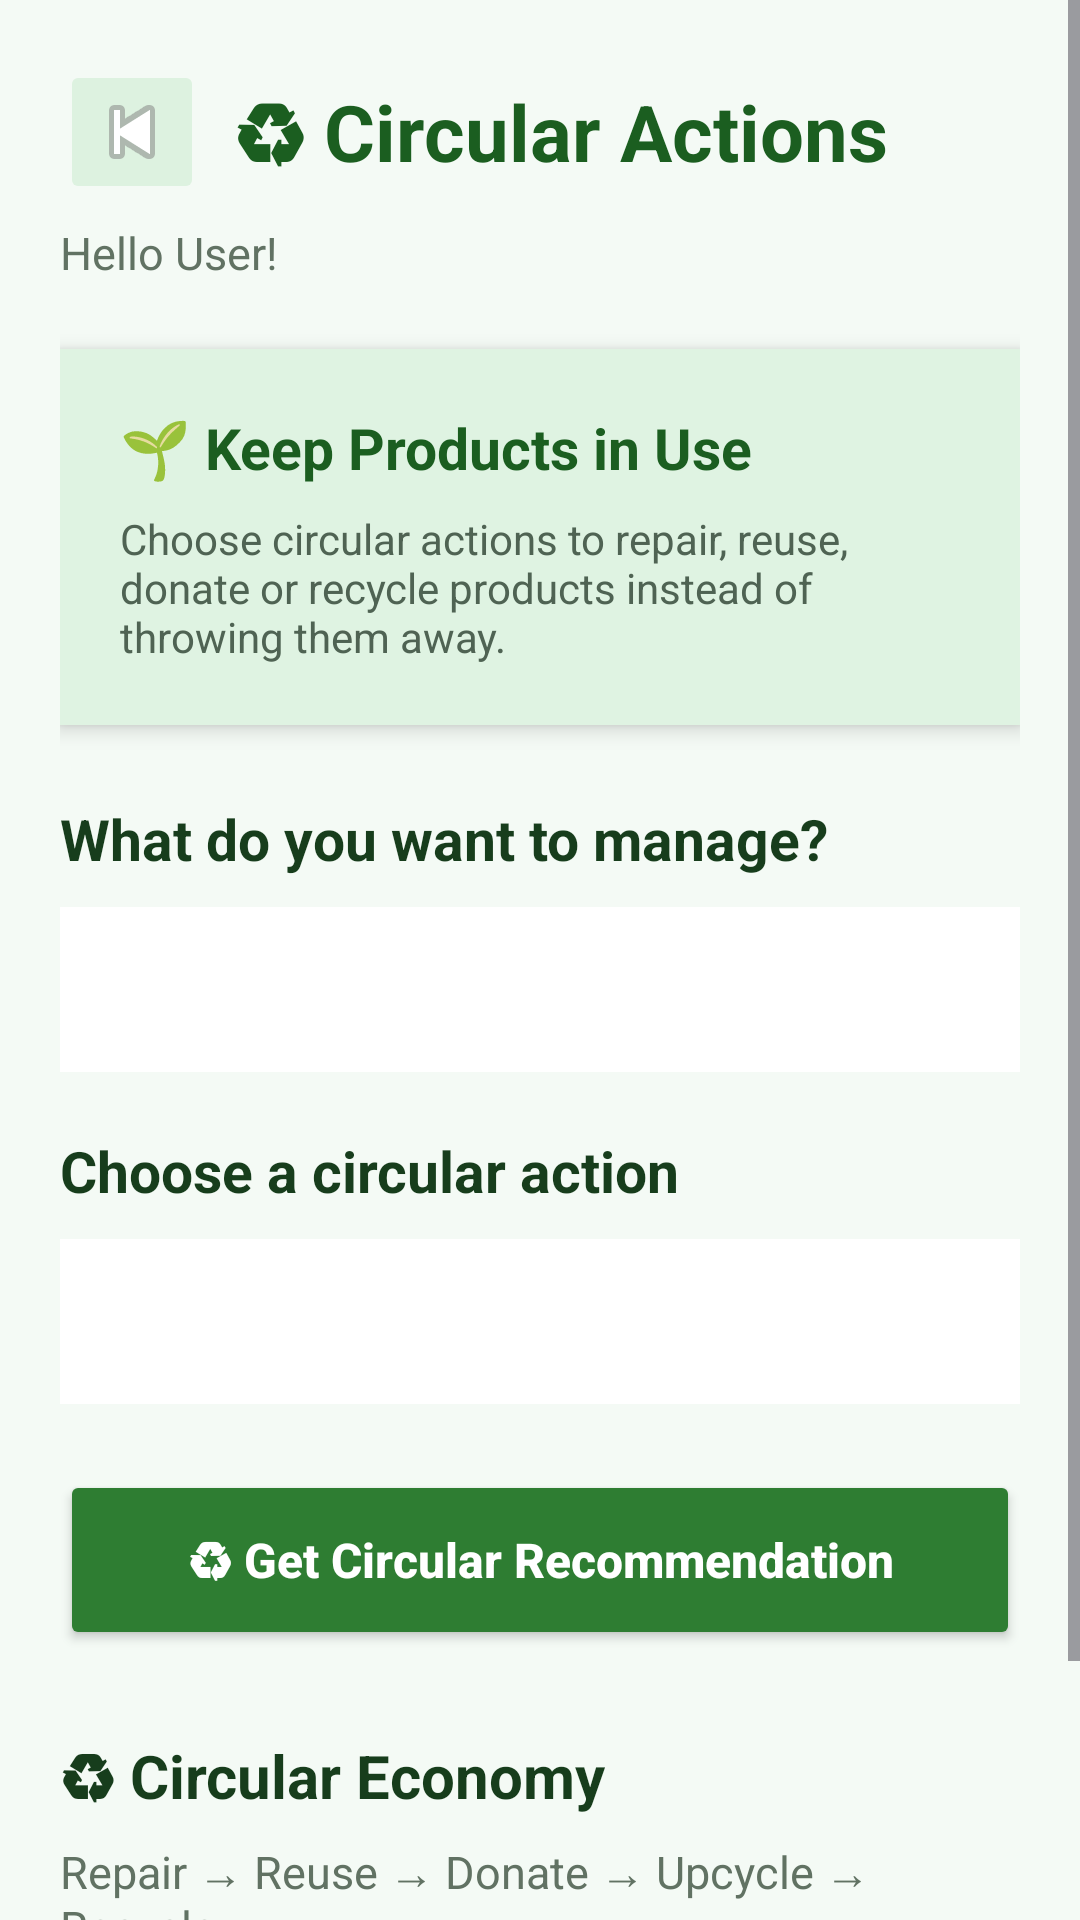

Named icons in this screenshot (1080px×1920px) and their bounding boxes, (x1, y1, x2, y2):
Back to Dashboard: (72, 78, 192, 186)
